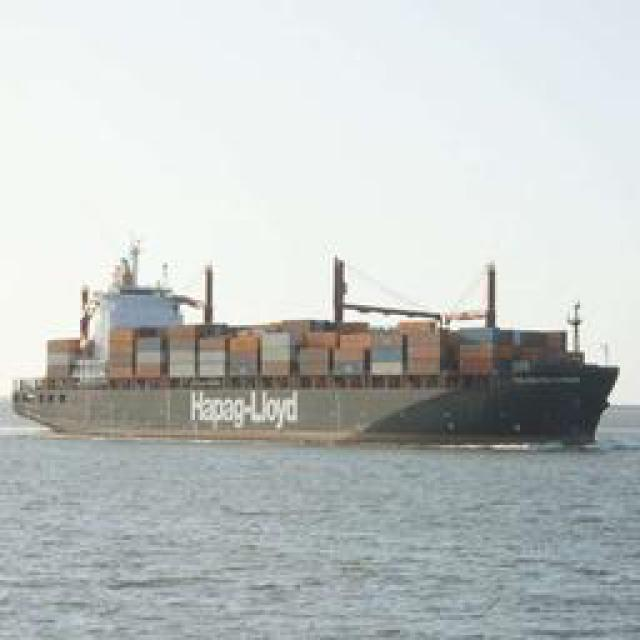Ship: (17, 245, 625, 445)
